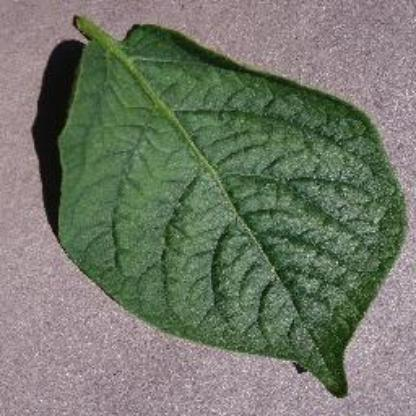Healthy-plant: (45, 12, 406, 402)
